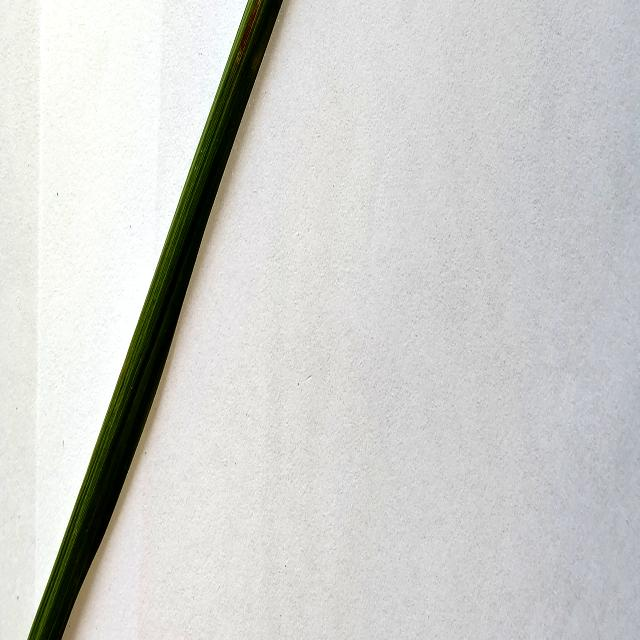NBS: (236, 0, 259, 66)
